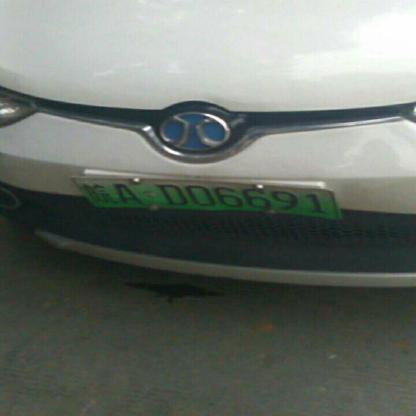lp: (72, 177, 340, 219)
